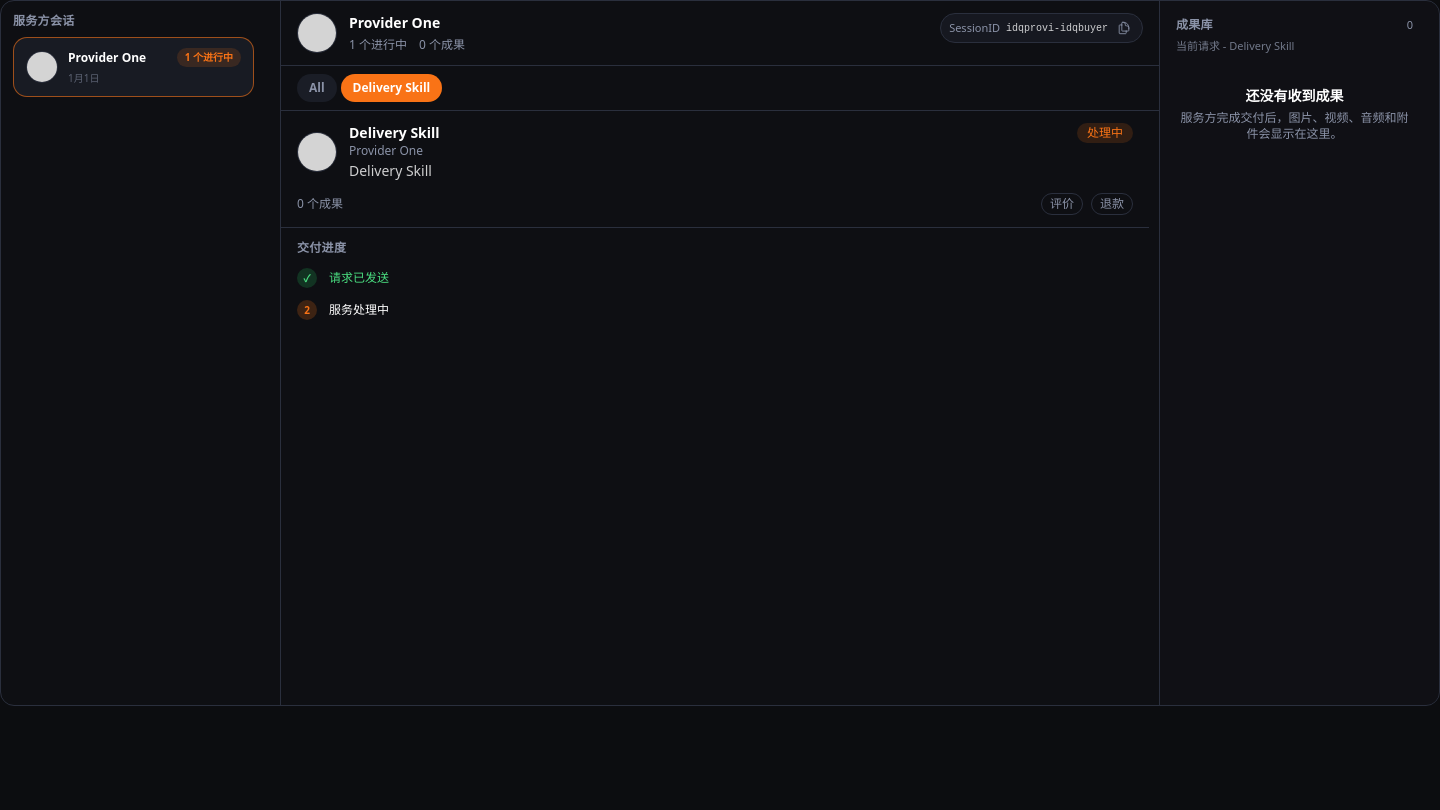
Scenario: DeliveryPage layout › shows and copies the stored local session short SessionID
Expected: the text "SessionID" is shown, [949, 20, 1000, 36]
Expected: the text "idqprovi-idqbuyer" is shown, [1006, 20, 1108, 36]
Click the button named "复制 SessionID".
click(1124, 28)  # box [1114, 18, 1134, 38]
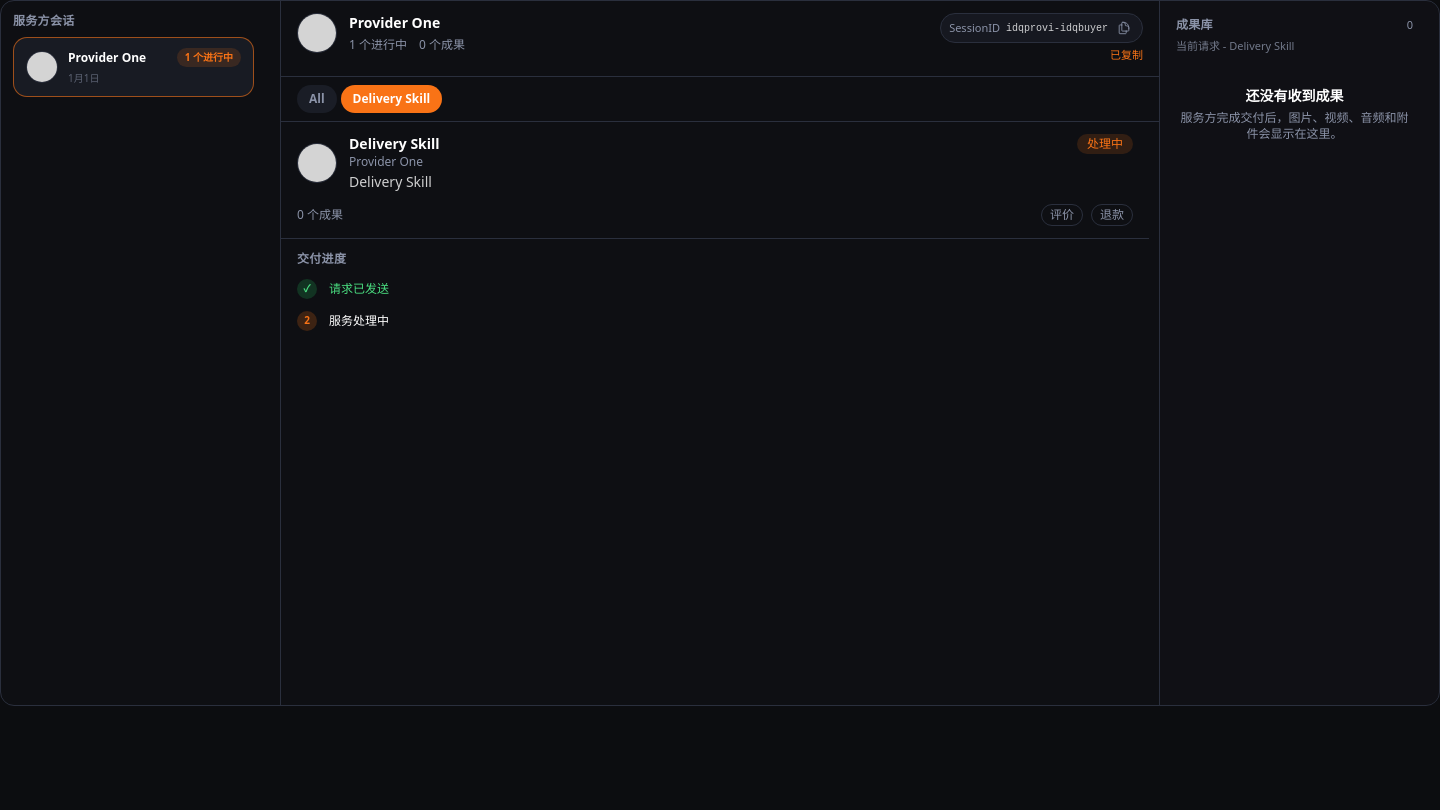
Now the text "已复制" is shown, box [1110, 47, 1143, 64]
